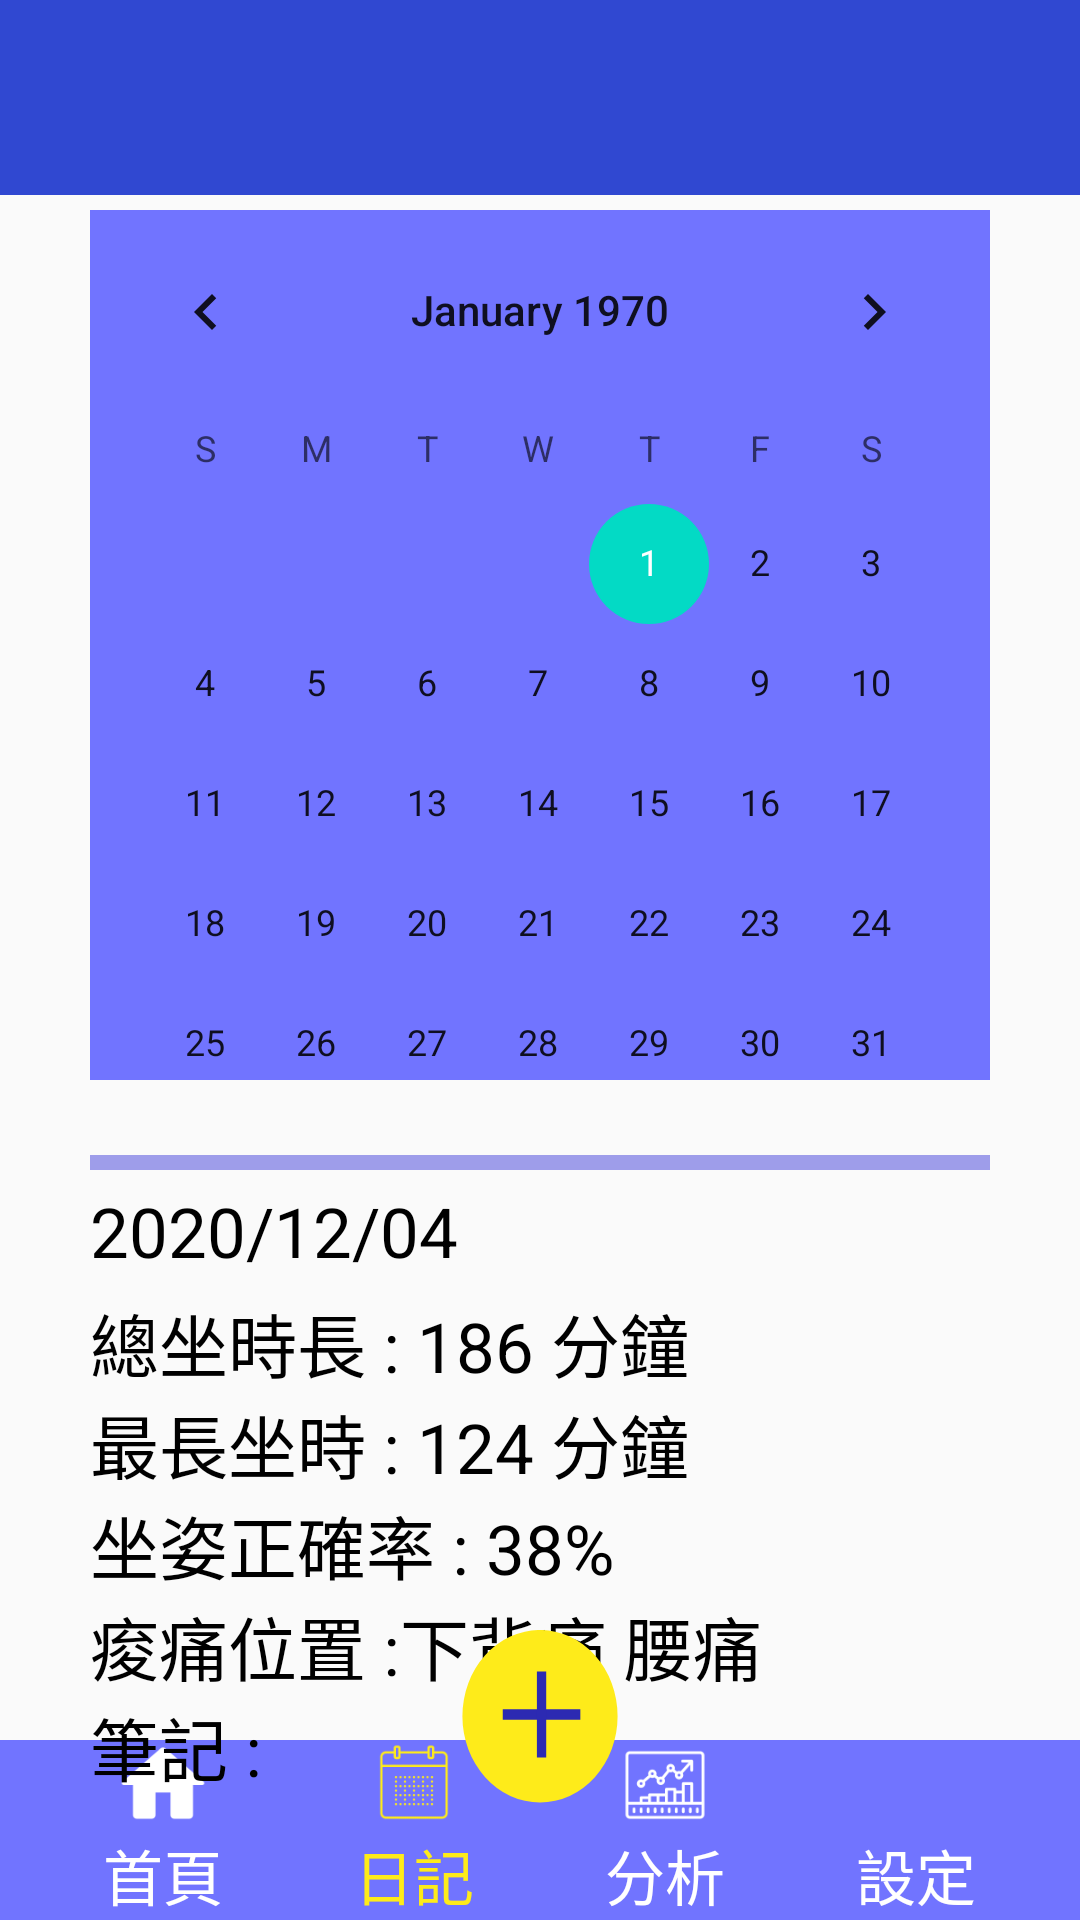

Icons on this 1080 x 1920 Android screen, each with the point to tap as [x,y]:
plus: [540,1730]
